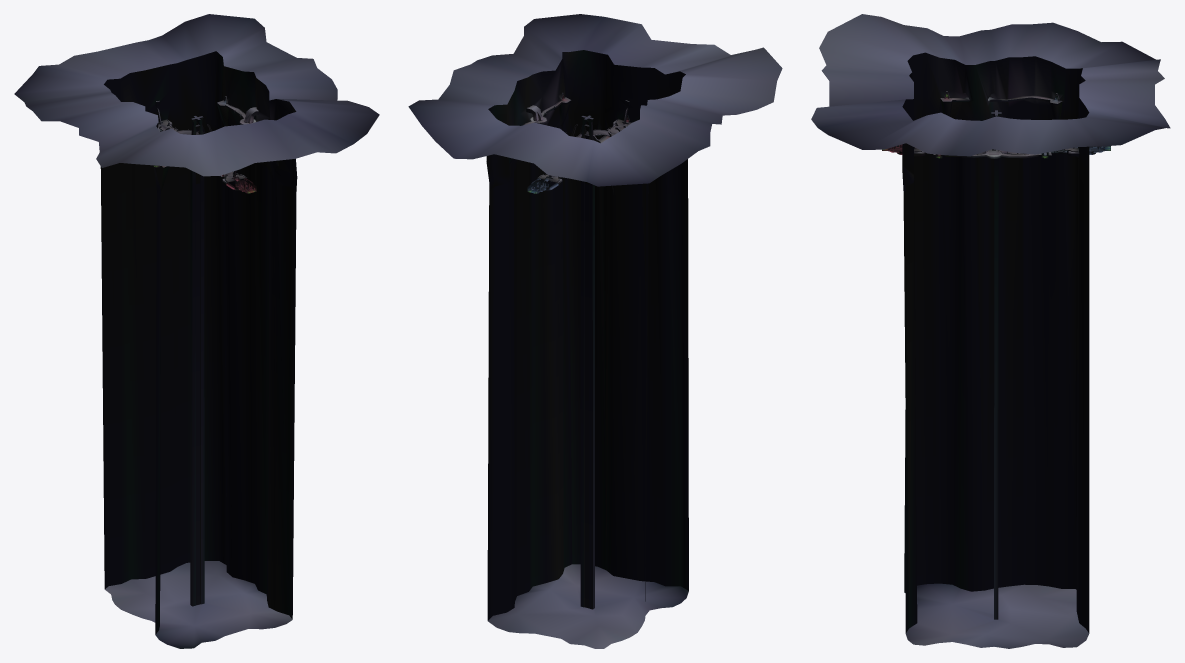
Rendered from GPH.glb.
3 views of the same model, side by side, from view 1: azimuth 30°, elevation 25°; view 2: azimuth 150°, elevation 25°; view 3: azimuth 270°, elevation 25° (orthographic). The views are drawn at different scales.
Visible parts, largest first — view 1: GPH; view 2: GPH; view 3: GPH.
Part boxes in pixels (x1=…): GPH: x1=14, y1=14, x2=379, y2=648; GPH: x1=408, y1=14, x2=782, y2=648; GPH: x1=811, y1=14, x2=1170, y2=648.
Size of the model in its own units: 680 by 1278 by 772.
